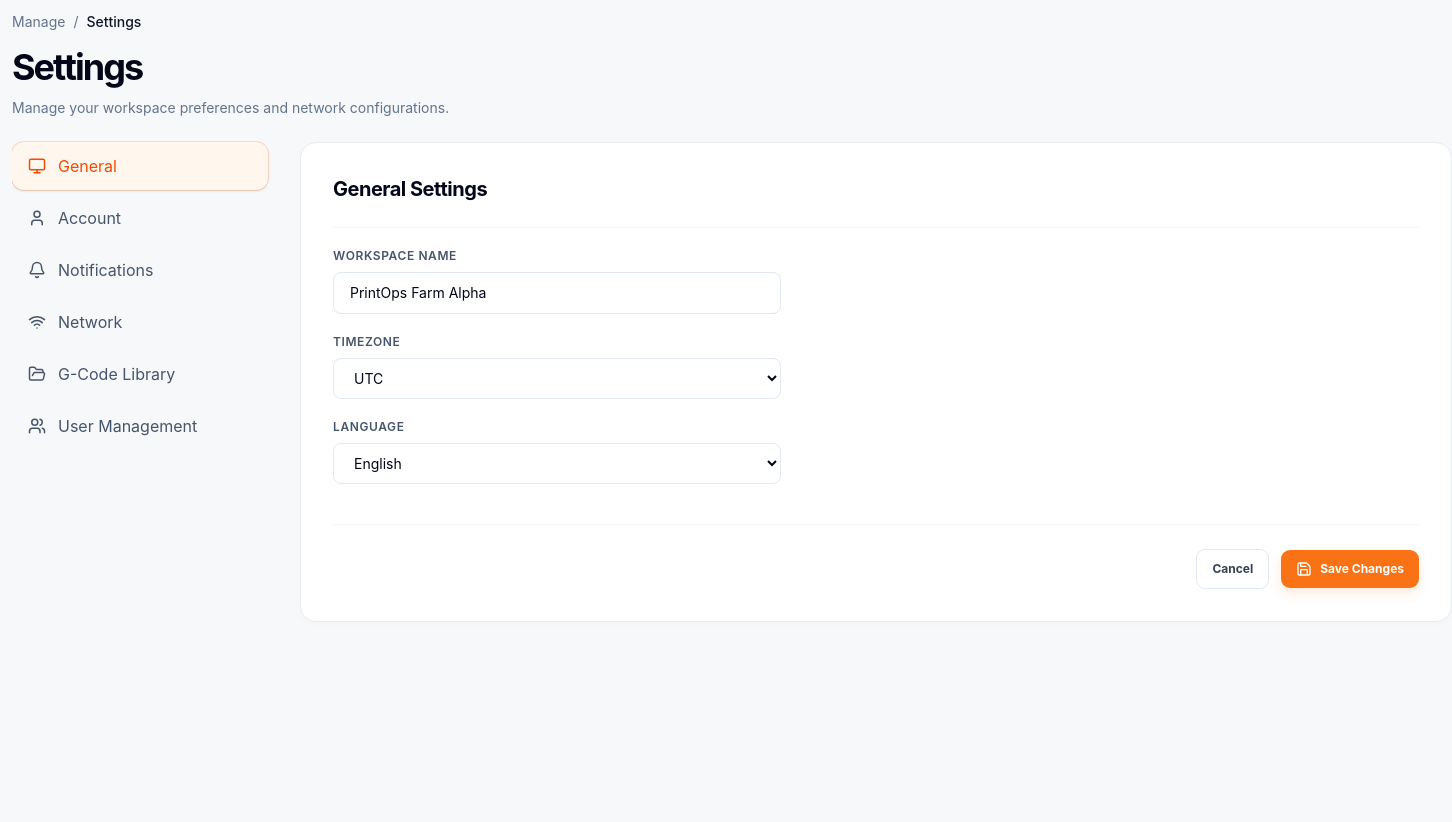
Test case: SettingsWorkspace › loads the G-Code Library location for an admin
Click the button "G-Code Library".
click(140, 374)  # box [12,350,268,398]
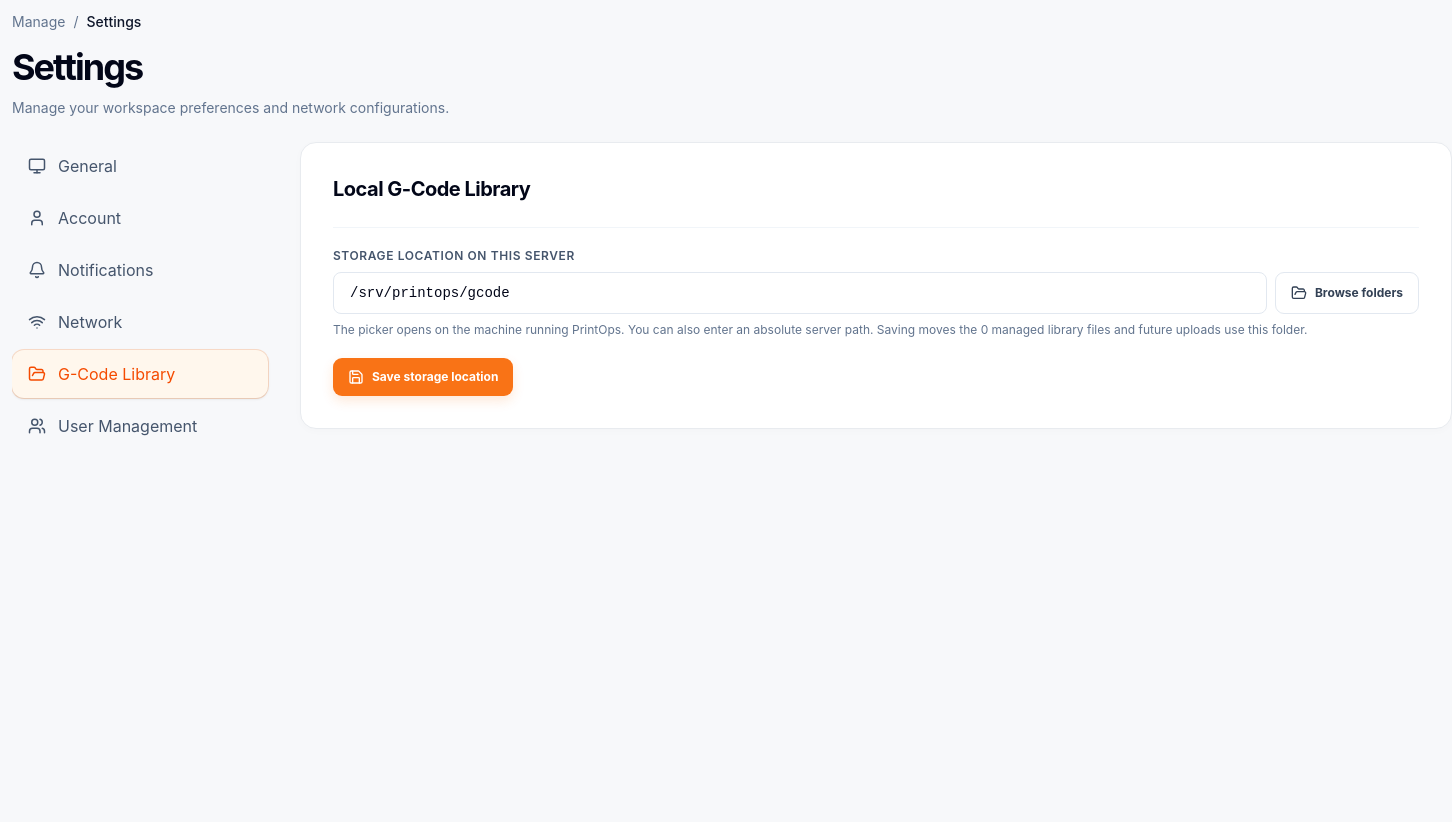
Check: the field showing "/srv/printops/gcode" is shown, box [333,272,1267,314]
Check: the text "Saving moves the 0 managed library files" is shown, box [333,322,1419,338]
